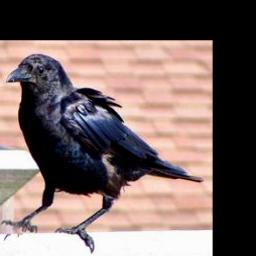Crow: (1, 53, 203, 253)
